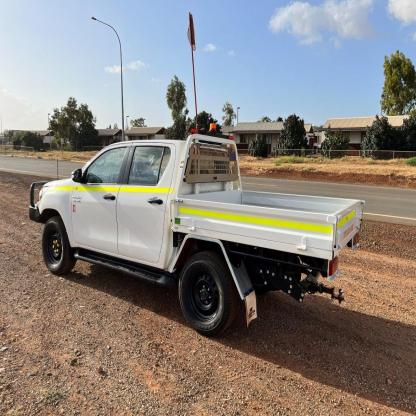light_vehicle: (26, 125, 372, 341)
